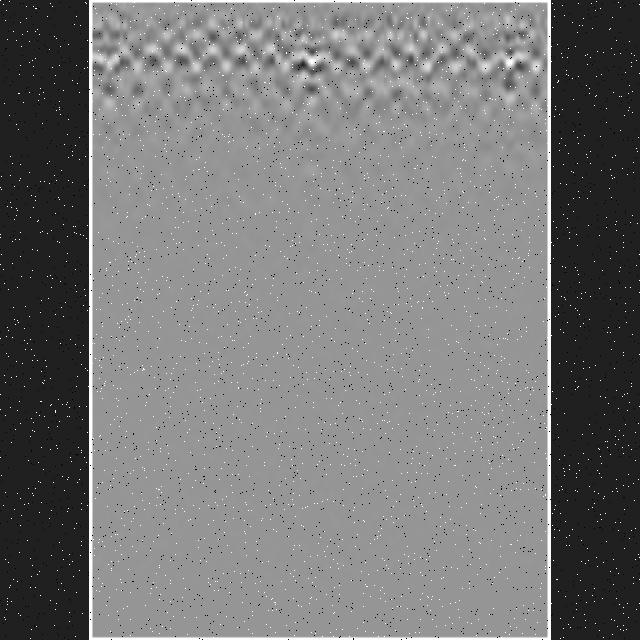hyperbola: (218, 42, 260, 82), (247, 41, 289, 81), (450, 41, 490, 79), (132, 40, 174, 76), (191, 44, 233, 80), (502, 46, 544, 82), (163, 39, 200, 79), (279, 47, 315, 85), (388, 46, 432, 76), (362, 44, 400, 76), (424, 42, 458, 76), (105, 44, 141, 76), (483, 48, 515, 80), (310, 50, 342, 82), (335, 44, 367, 76)
